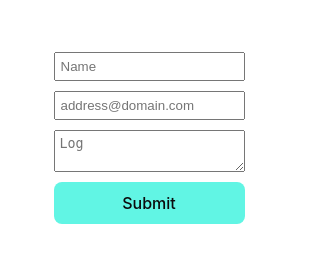
Test case: UserForm receives and submits valid data › Form has 3 required fields
The width and height of the screenshot is (320, 277).
Click the button "Submit" at (149, 203), box [54,182,244,224]
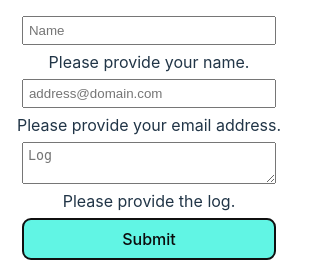
Check: the text "Please provide your name." is shown, box [49,52,249,72]
Check: the text "Please provide your email address." is shown, box [17,113,281,137]
Check: the text "Please provide the log." is shown, box [63,191,235,211]
